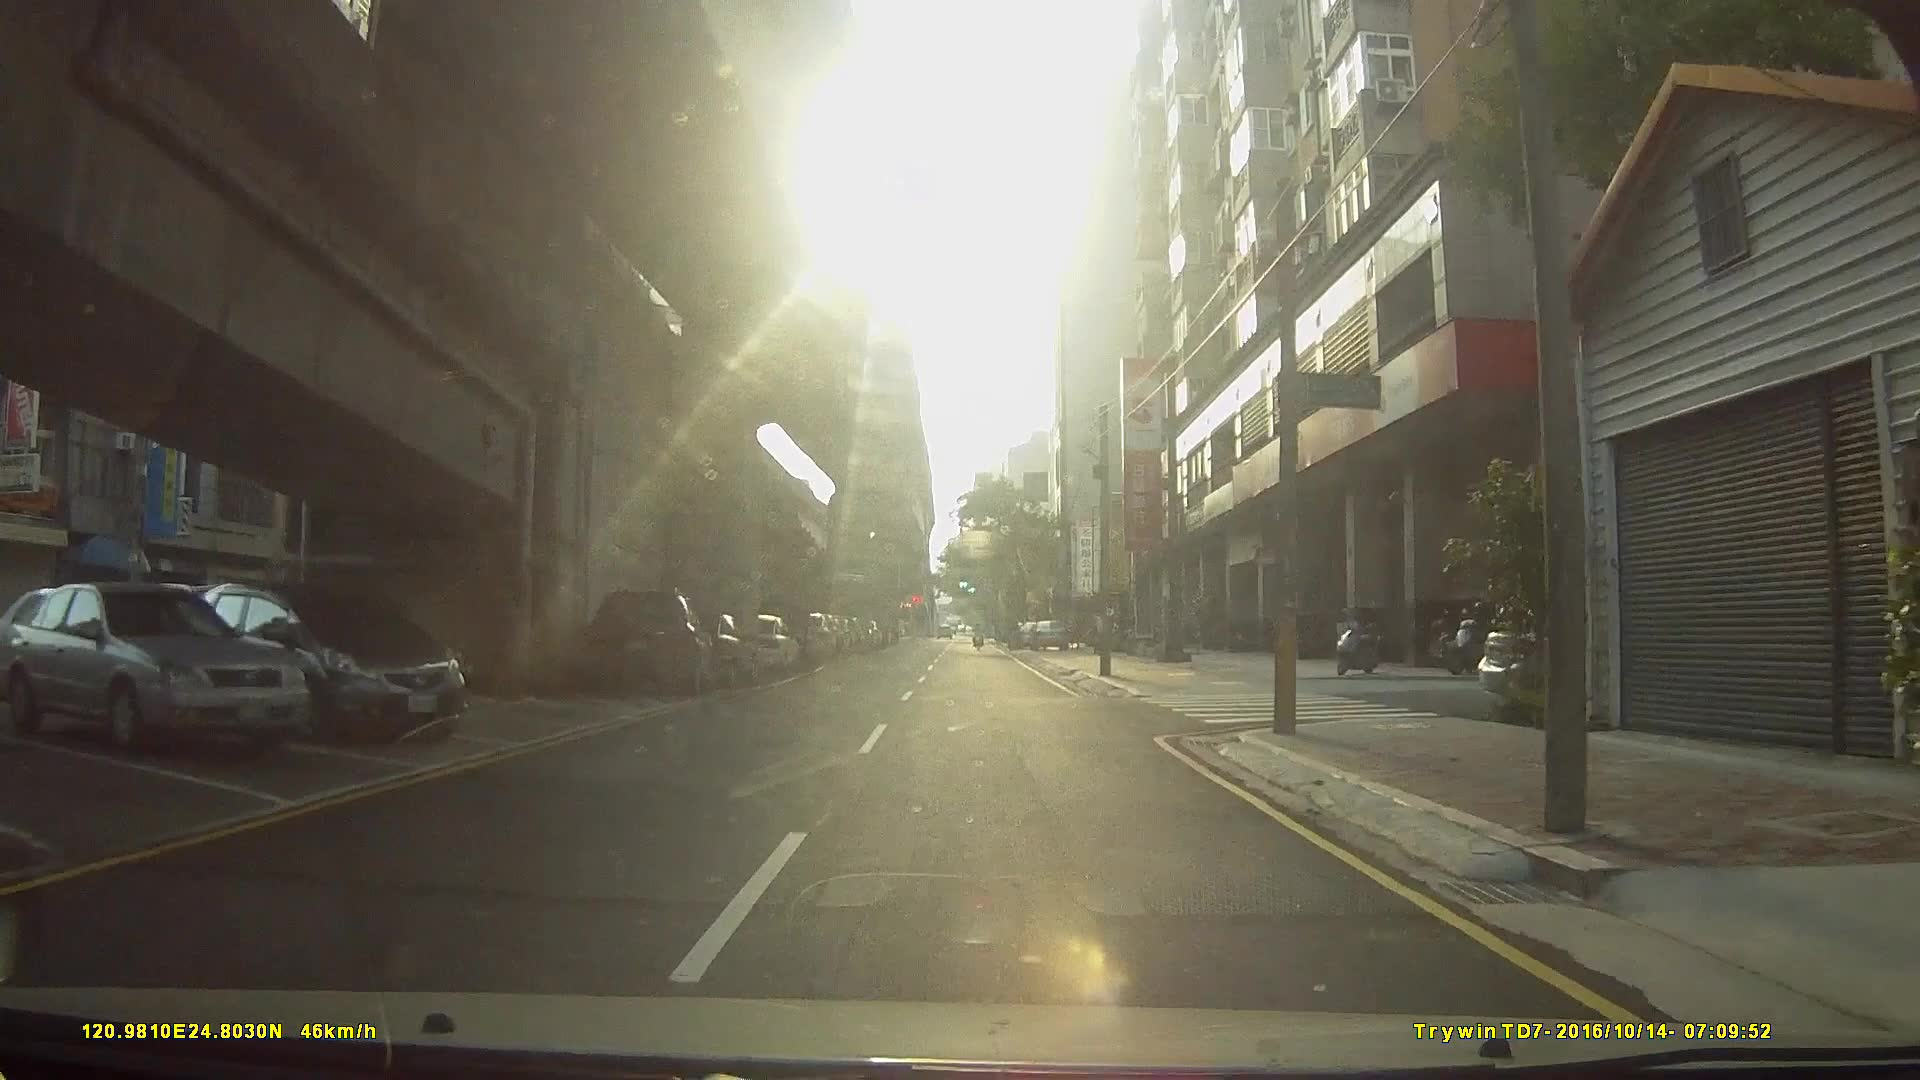vehicle: (0, 582, 310, 756), (193, 578, 469, 744), (580, 588, 717, 698), (1029, 618, 1067, 654)
